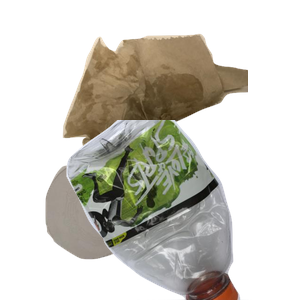glass: (43, 159, 187, 300)
metal: (99, 70, 236, 176)
plastic: (64, 120, 300, 300)
trash: (60, 31, 300, 189)
